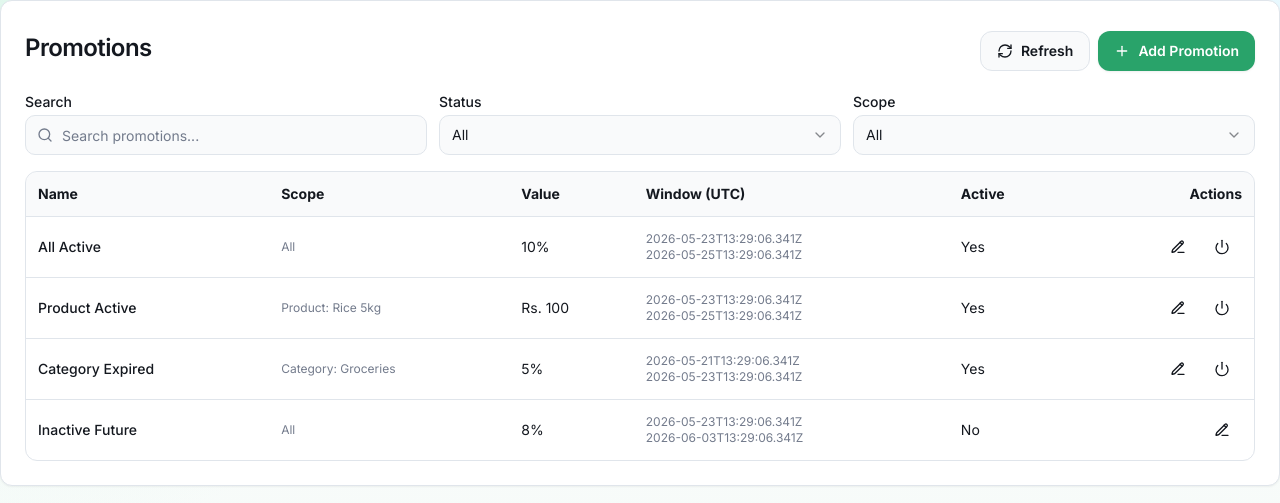
it: PromotionsTab › filters promotions by status and scope
Expected: the text "All Active" is shown, [38,238,101,255]
Click the dropdown labelled "All" below "Status".
click(460, 134)  # box [439,115,841,155]
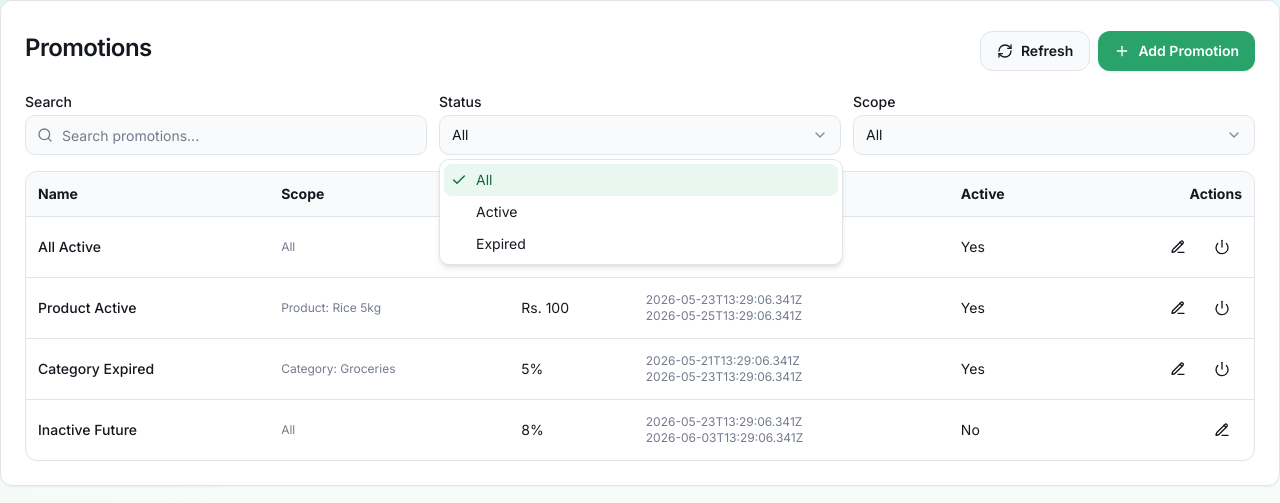
Click the option "Active".
click(497, 212)  # box [476,203,517,220]
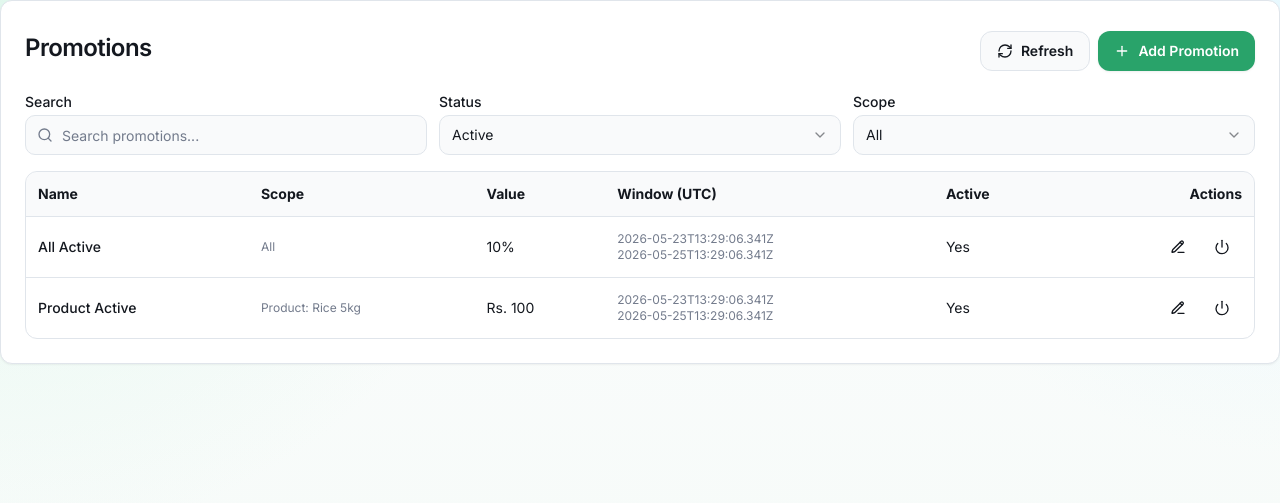
Expected: the text "All Active" is shown, [38,238,101,255]
Now the text "Category Expired" is gone
Now the text "Inactive Future" is gone
Click the dropdown labelled "All".
click(874, 134)  # box [853,115,1255,155]
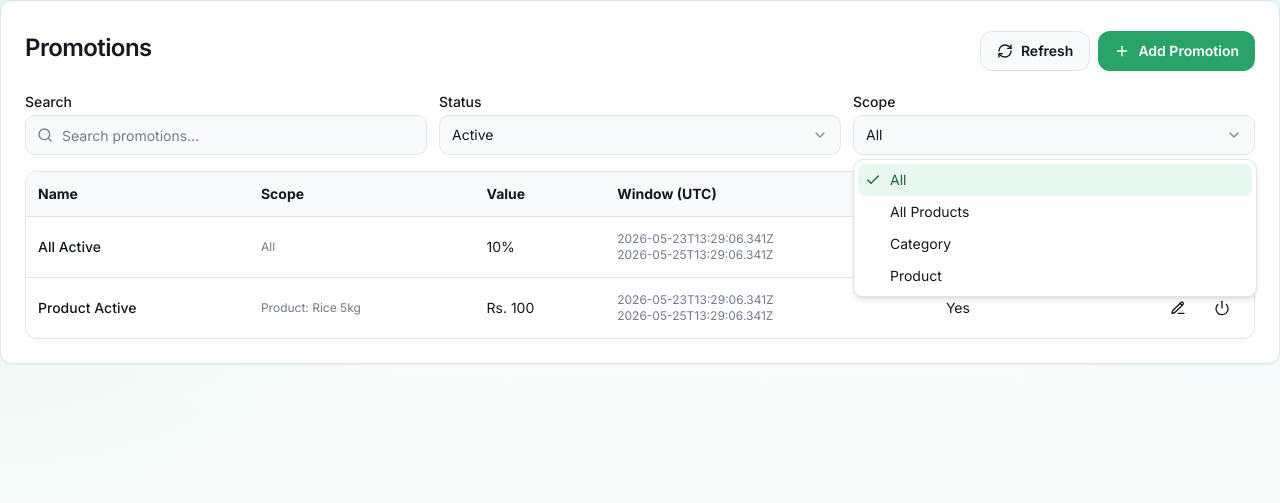
Click the option "Product".
click(916, 276)  # box [890,267,942,284]
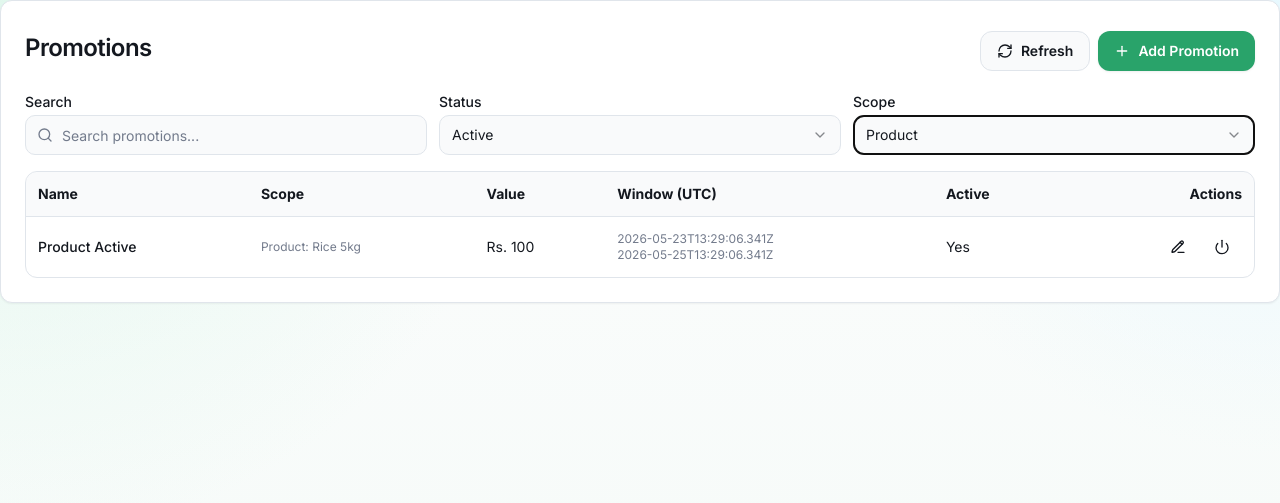
Expected: the text "Product Active" is shown, [38,238,136,255]
Now the text "All Active" is gone
